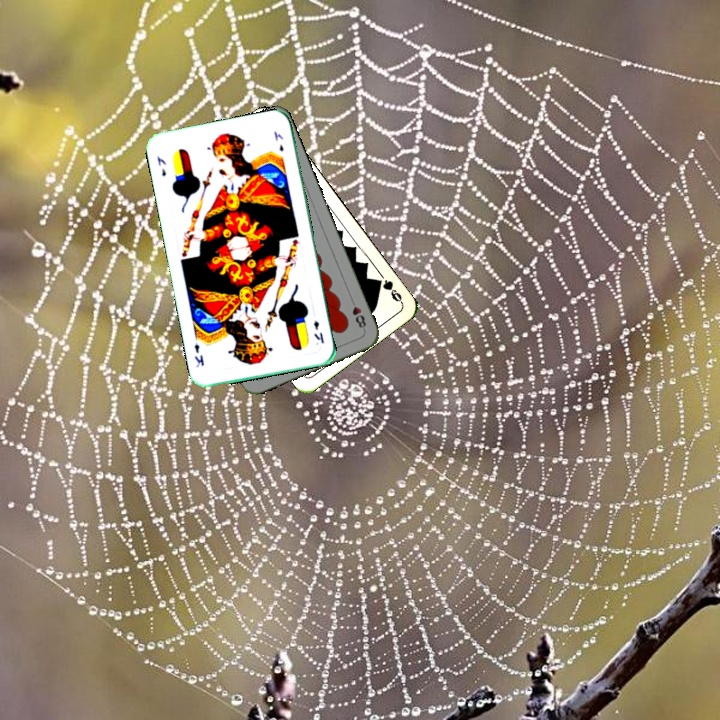EK: (310, 316, 327, 346), (153, 152, 169, 179)
G9: (371, 275, 405, 306)
H8: (346, 294, 369, 332)
